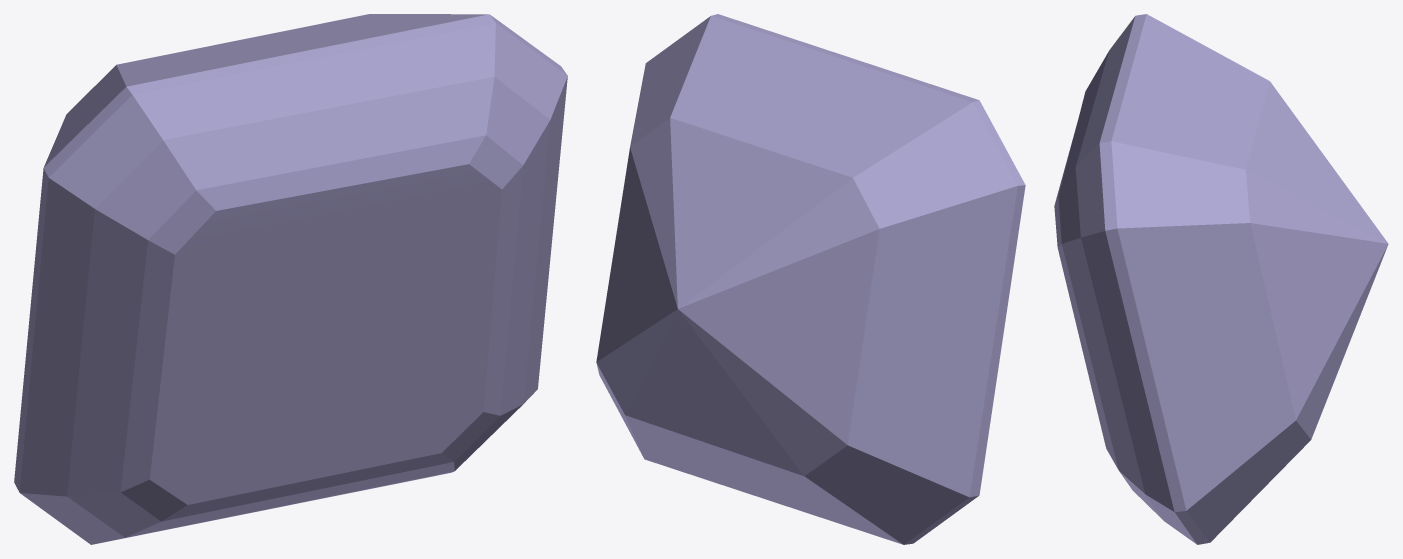
File: BL1_8shapes_Square_Classic_Stone.001 2.glb
3 renders of one model, left to right at view 1: azimuth 30°, elevation 25°; view 2: azimuth 150°, elevation 25°; view 3: azimuth 270°, elevation 25°, orthographic. The views are drawn at different scales.
Visible parts, largest first — view 1: BL1_8shapes_Square_Classic_Stone.001; view 2: BL1_8shapes_Square_Classic_Stone.001; view 3: BL1_8shapes_Square_Classic_Stone.001.
Boxes of the visible parts, <box> form: BL1_8shapes_Square_Classic_Stone.001: <box>14,14,567,544</box>; BL1_8shapes_Square_Classic_Stone.001: <box>596,14,1025,544</box>; BL1_8shapes_Square_Classic_Stone.001: <box>1054,14,1388,544</box>.
Size of the model in its own units: 0.3982 by 0.3862 by 0.2912.
